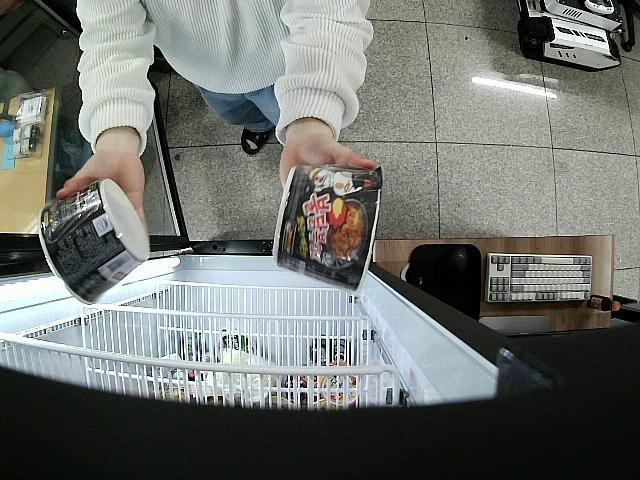07_buldak_L: (272, 163, 383, 292), (38, 178, 150, 304)
